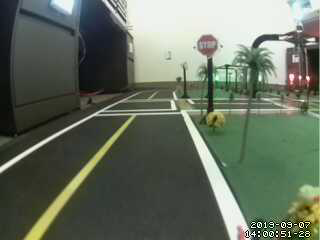Stop_Sign: (190, 30, 226, 58)
